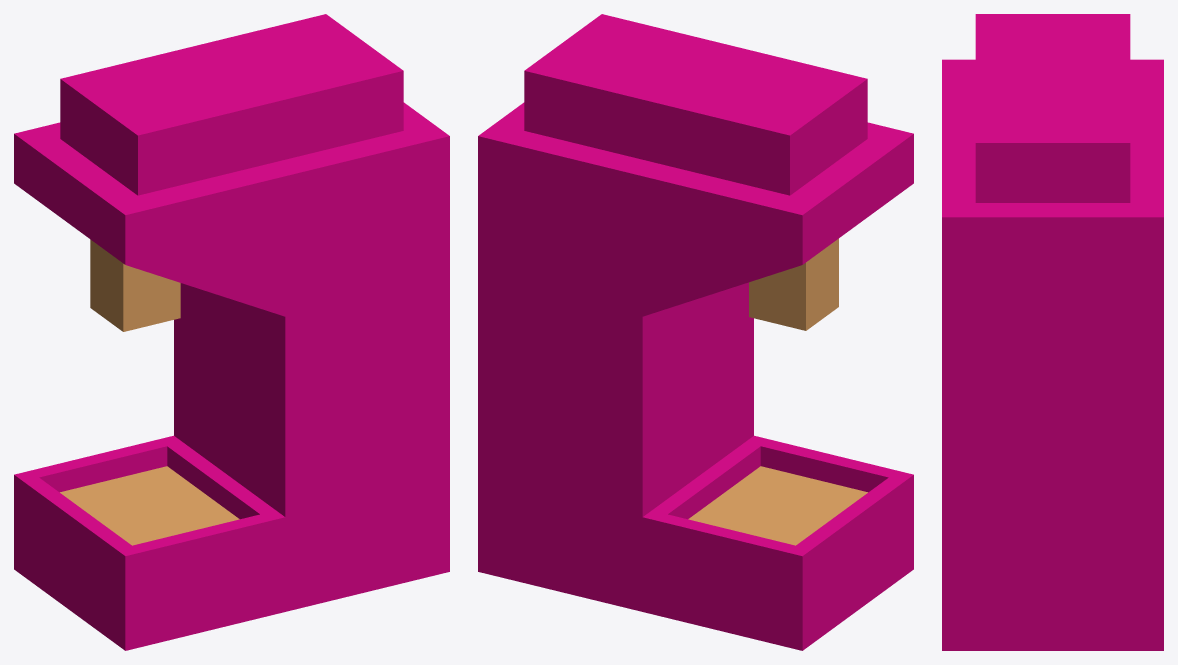
File: C_Coffee002.fbx
3 renders of one model, left to right at view 1: azimuth 30°, elevation 25°; view 2: azimuth 150°, elevation 25°; view 3: azimuth 270°, elevation 25°, orthographic.
Visible parts, largest first — view 1: Cube.004; view 2: Cube.004; view 3: Cube.004.
Part boxes in pixels (box(x1,y1,x2,y2)): Cube.004: box(14, 14, 449, 650); Cube.004: box(478, 14, 913, 650); Cube.004: box(942, 14, 1163, 650).
Size of the model in its own units: 56.72 by 82.82 by 33.74.
